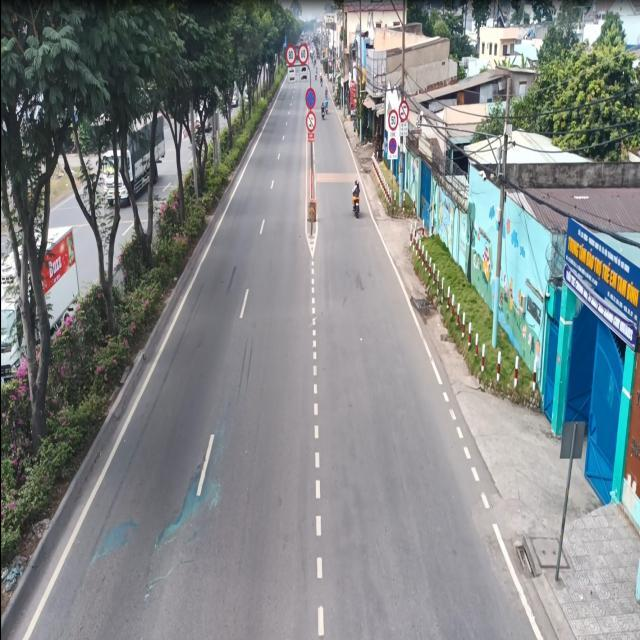person: (351, 179, 360, 215)
truck: (0, 224, 79, 380), (90, 107, 165, 207)
